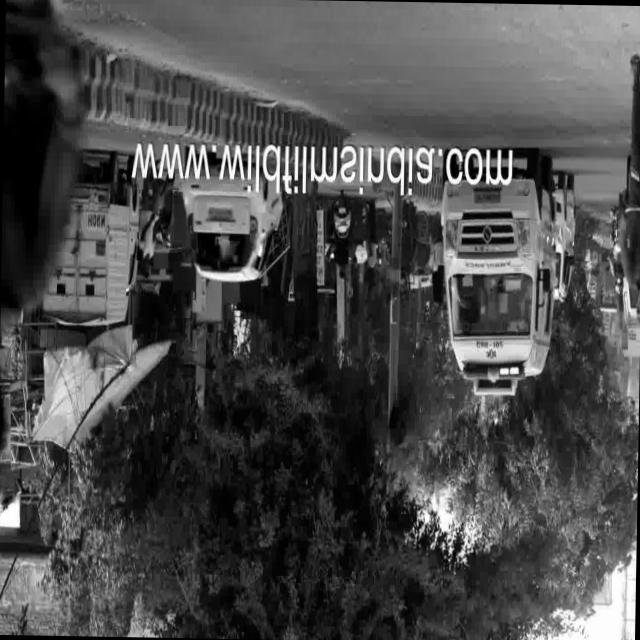ambulance: (423, 148, 556, 406)
